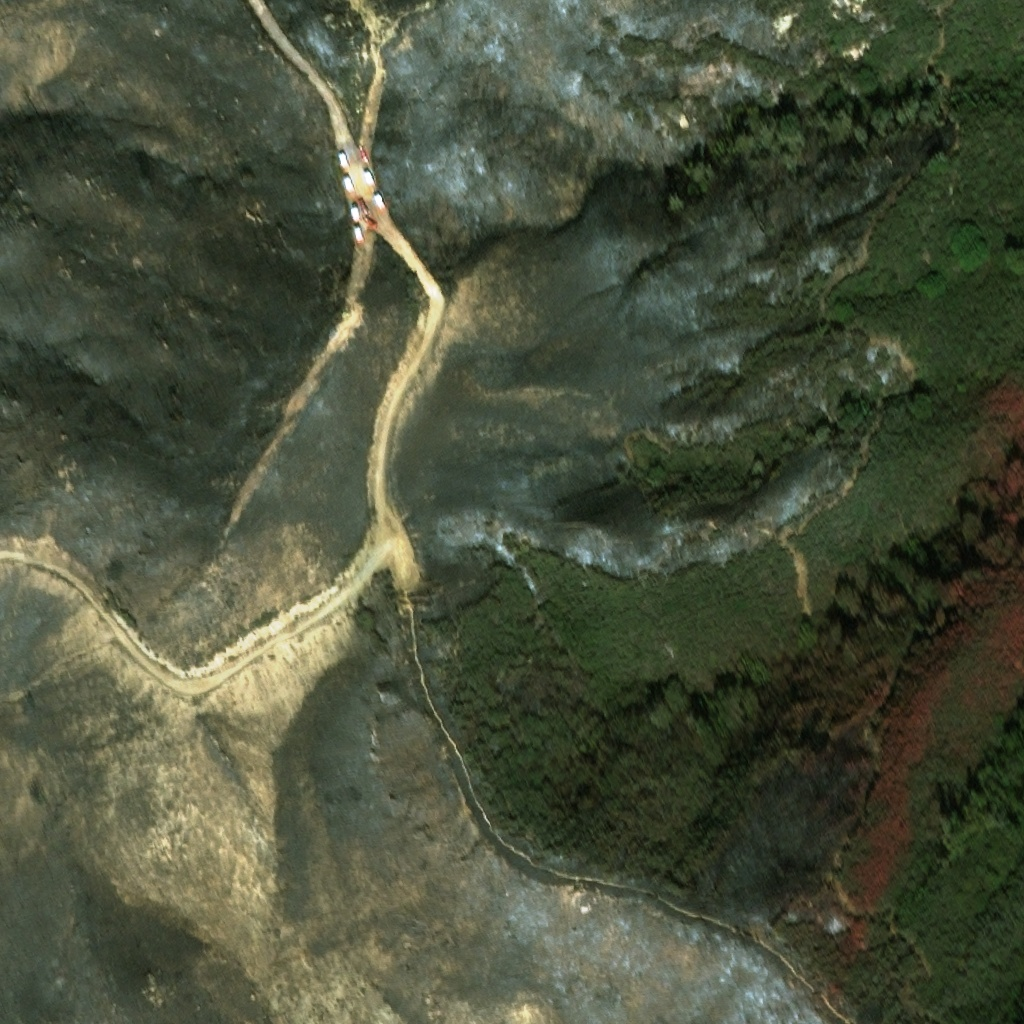4 un-classified: (328, 331, 338, 341)
